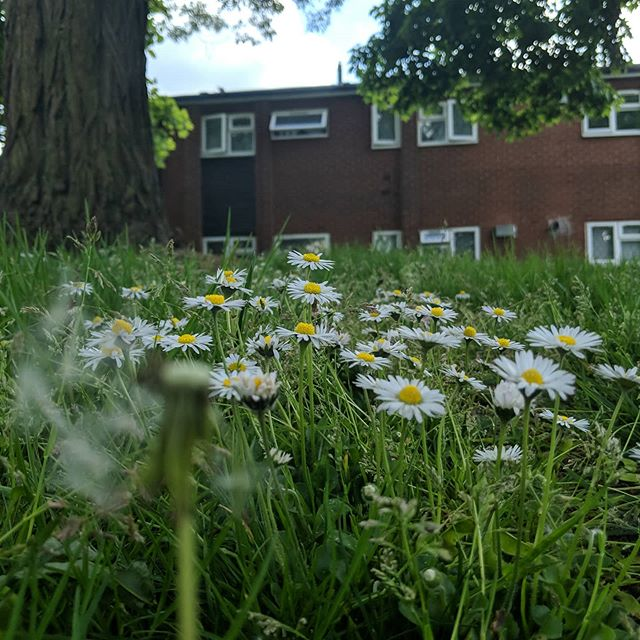building: (150, 67, 640, 249)
flowers: (15, 240, 606, 553)
